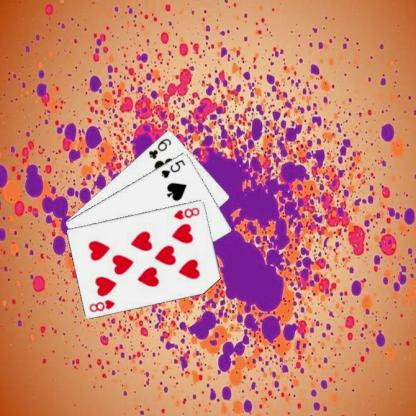5S: (158, 156, 186, 180)
6C: (146, 136, 173, 160)
8H: (171, 204, 201, 221), (87, 297, 116, 313)
